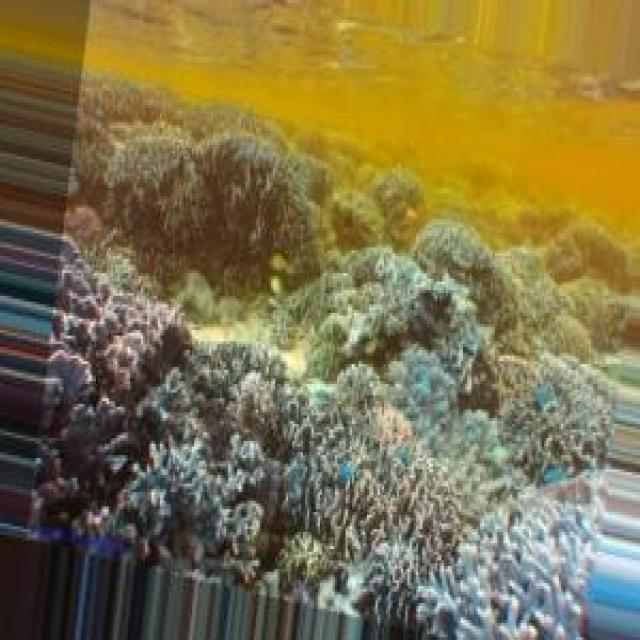Healthy: (59, 83, 613, 630)
